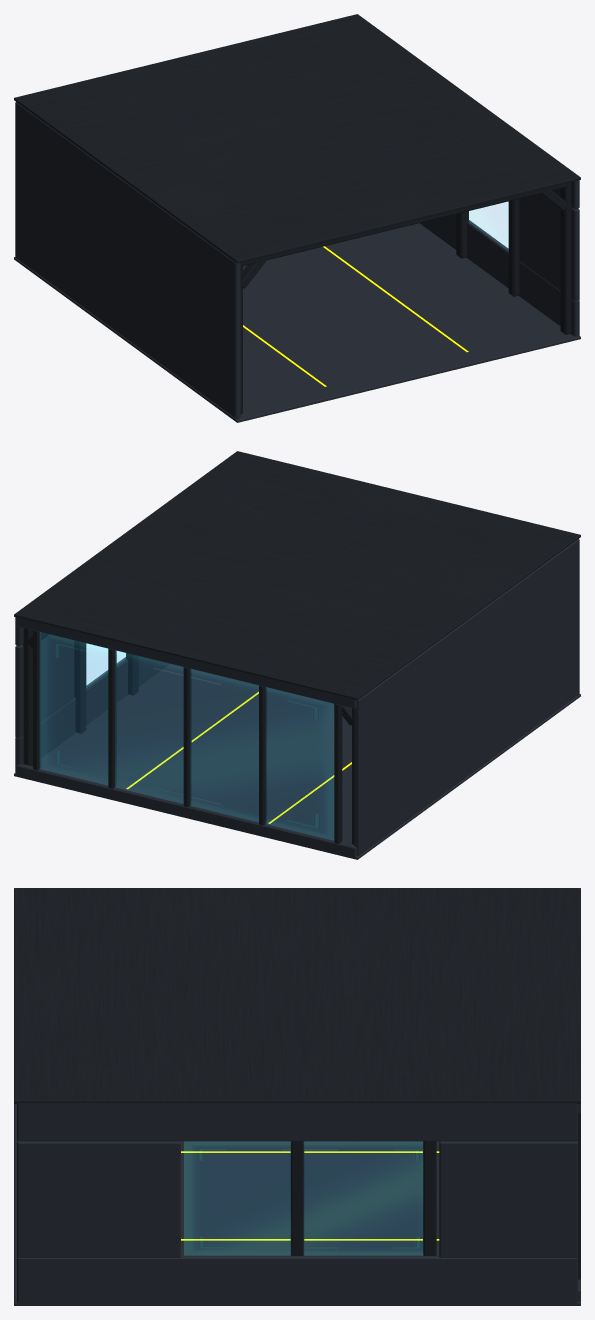
File: room_08_shell.glb
3 views of the same model, one above another, from view 1: azimuth 30°, elevation 25°; view 2: azimuth 150°, elevation 25°; view 3: azimuth 270°, elevation 25° (orthographic). The views are drawn at different scales.
Visible parts, largest first — view 1: Room08_CarbonSlateDeckAndBulkheads, Room08_OctagonalTitaniumRibsAndDomeMullions, Room08_TranslucentStargazerViewports, Room08_AmberDeckMoodStrips; view 2: Room08_OctagonalTitaniumRibsAndDomeMullions, Room08_CarbonSlateDeckAndBulkheads, Room08_TranslucentStargazerViewports, Room08_AmberDeckMoodStrips; view 3: Room08_OctagonalTitaniumRibsAndDomeMullions, Room08_CarbonSlateDeckAndBulkheads, Room08_TranslucentStargazerViewports, Room08_AmberDeckMoodStrips.
Boxes of the visible parts, bbox=[...] form: Room08_CarbonSlateDeckAndBulkheads: bbox=[14, 102, 580, 422]; Room08_OctagonalTitaniumRibsAndDomeMullions: bbox=[14, 14, 580, 414]; Room08_TranslucentStargazerViewports: bbox=[469, 202, 507, 249]; Room08_AmberDeckMoodStrips: bbox=[243, 246, 468, 386]; Room08_OctagonalTitaniumRibsAndDomeMullions: bbox=[14, 451, 580, 844]; Room08_CarbonSlateDeckAndBulkheads: bbox=[14, 539, 580, 859]; Room08_TranslucentStargazerViewports: bbox=[40, 632, 333, 839]; Room08_AmberDeckMoodStrips: bbox=[126, 691, 351, 823]; Room08_OctagonalTitaniumRibsAndDomeMullions: bbox=[14, 888, 580, 1279]; Room08_CarbonSlateDeckAndBulkheads: bbox=[14, 1103, 580, 1305]; Room08_TranslucentStargazerViewports: bbox=[184, 1142, 422, 1254]; Room08_AmberDeckMoodStrips: bbox=[181, 1151, 439, 1240].
Size of the model in its own units: 8 by 3.6 by 9.
5 materials, 5 textured.
